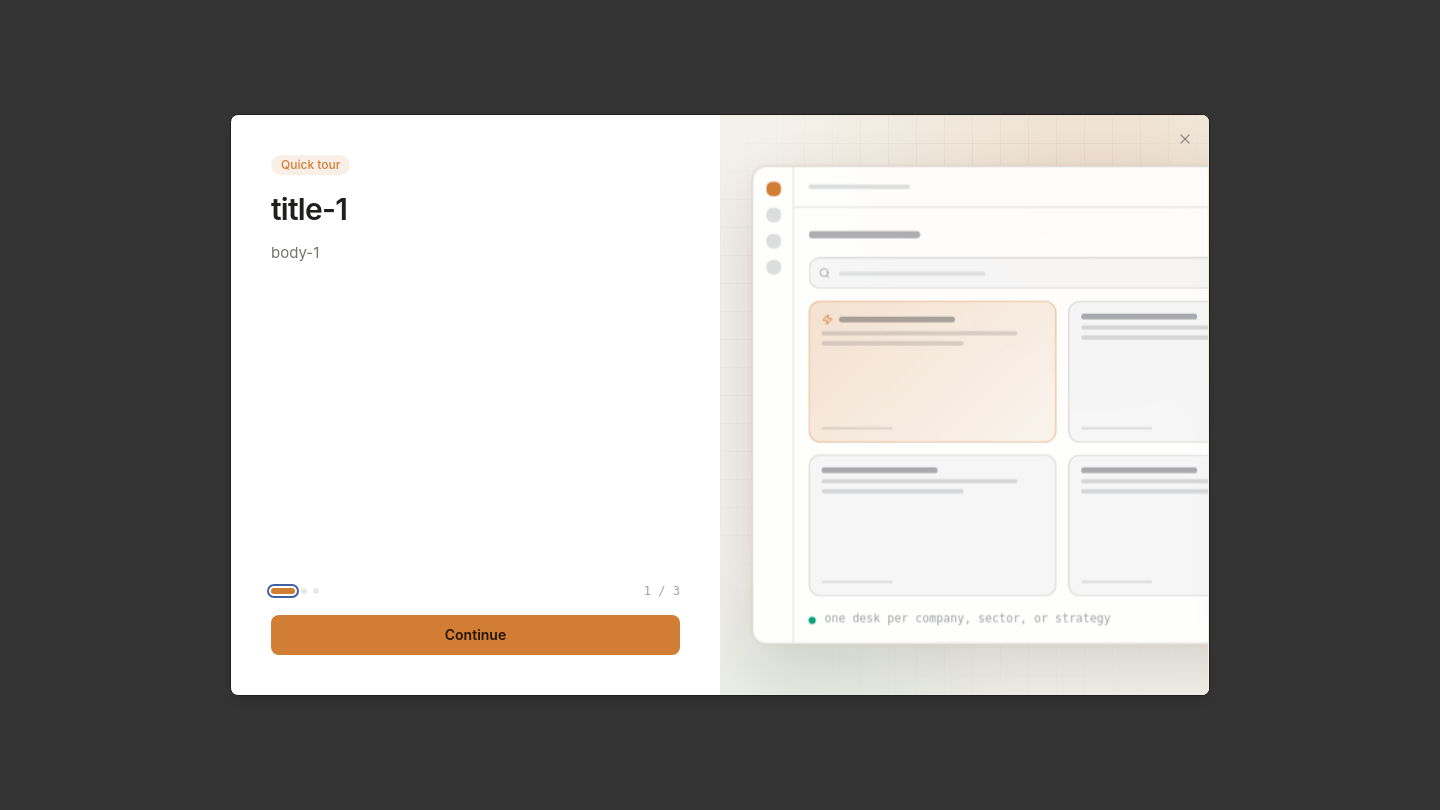
it: PageIntroModal › step dots jump directly to a stage
The image size is (1440, 810).
Click the button named "Step 3": (316, 591) [313, 588, 319, 594]
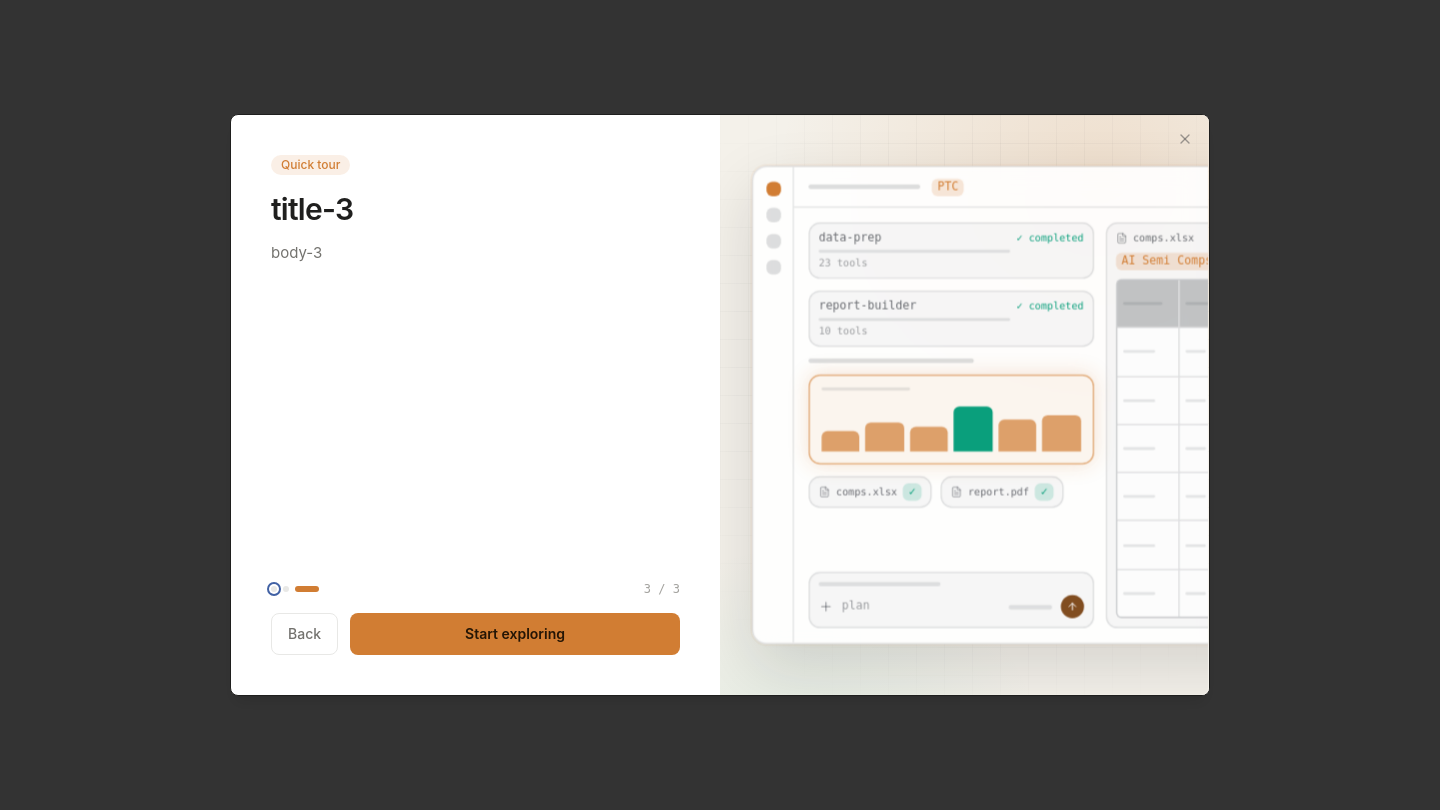
Expected: the heading "title-3" is shown, [271, 191, 353, 227]
